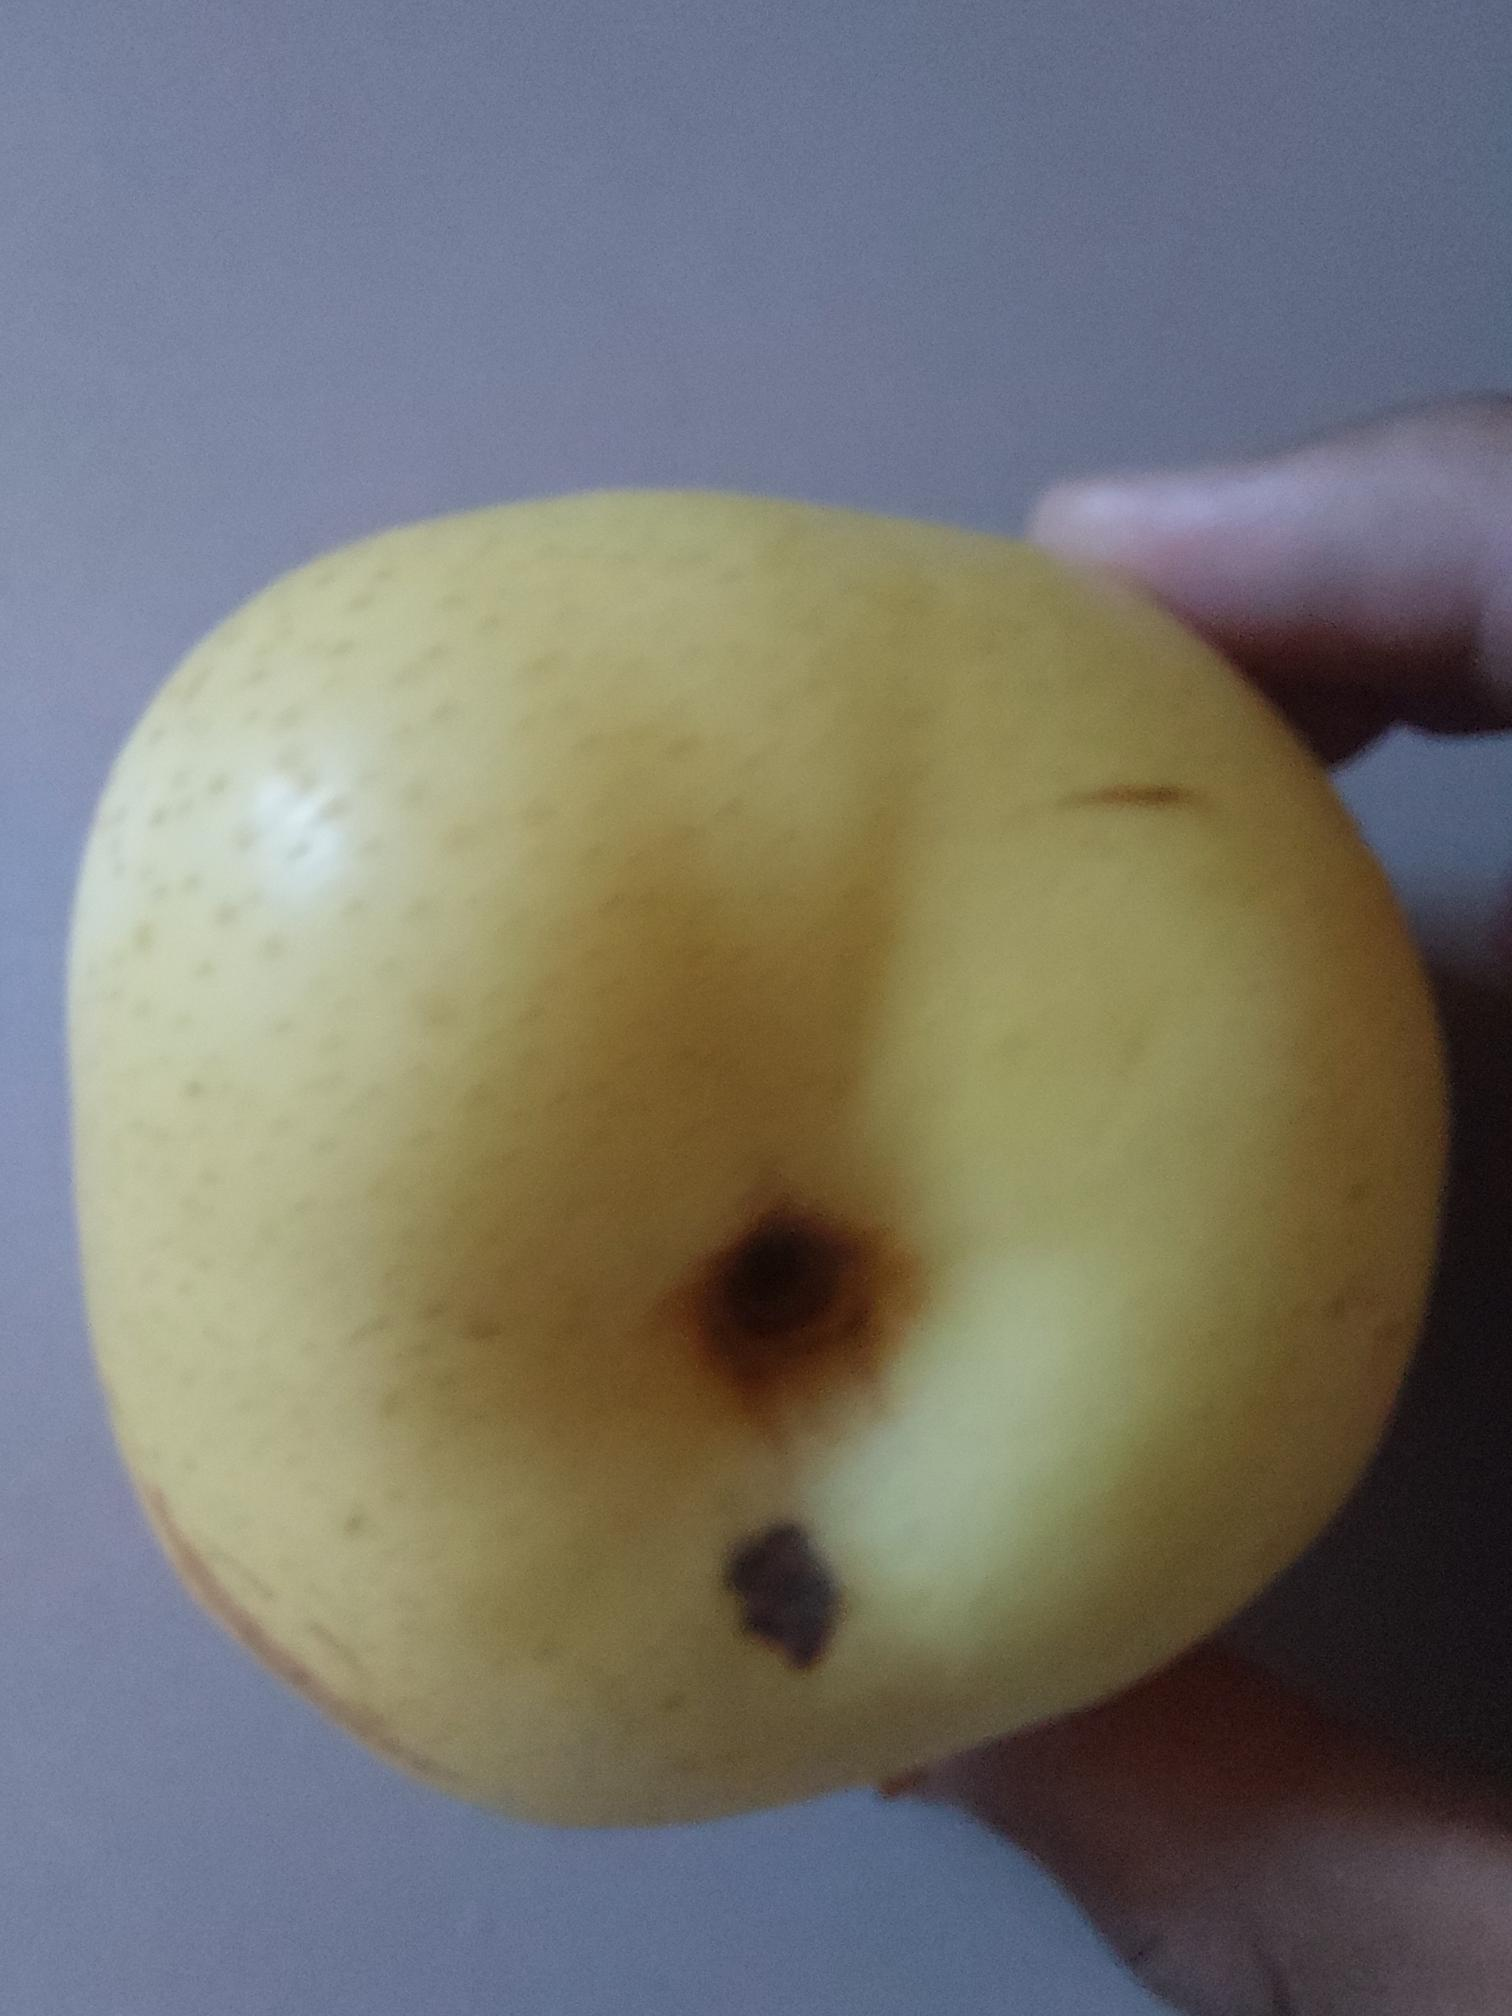Good Pear: (54, 481, 1448, 1841)
